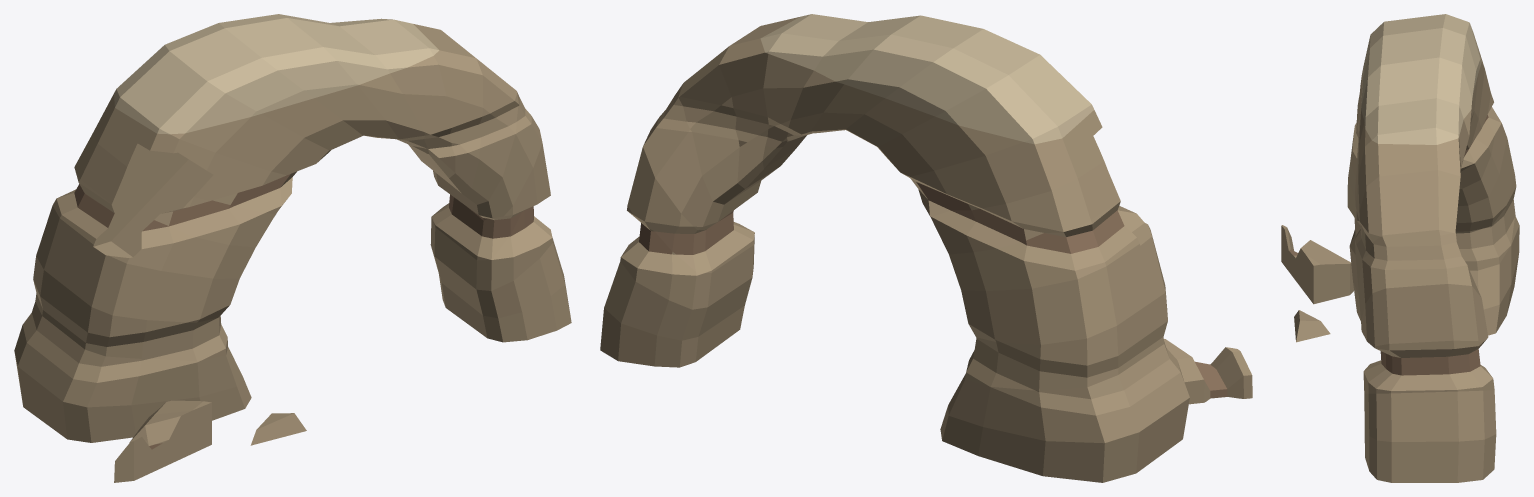
File: natural-arch-v2.glb
3 renders of one model, left to right at view 1: azimuth 30°, elevation 25°; view 2: azimuth 150°, elevation 25°; view 3: azimuth 270°, elevation 25°, orthographic. The views are drawn at different scales.
Visible parts, largest first — view 1: Arch_resistant_crown_and_eroded_supports, Fallen_shoulder_flake_original_break_geometry, Small_chip_below_same_shoulder_failure; view 2: Arch_resistant_crown_and_eroded_supports, Fallen_shoulder_flake_original_break_geometry; view 3: Arch_resistant_crown_and_eroded_supports, Fallen_shoulder_flake_original_break_geometry, Small_chip_below_same_shoulder_failure.
Part boxes in pixels (x1,y1,x2,y2): Arch_resistant_crown_and_eroded_supports: (14,14,571,442); Fallen_shoulder_flake_original_break_geometry: (114,400,211,482); Small_chip_below_same_shoulder_failure: (250,413,306,445); Arch_resistant_crown_and_eroded_supports: (600,14,1189,482); Fallen_shoulder_flake_original_break_geometry: (1164,339,1252,404); Arch_resistant_crown_and_eroded_supports: (1347,14,1519,482); Fallen_shoulder_flake_original_break_geometry: (1281,225,1353,304); Small_chip_below_same_shoulder_failure: (1294,310,1330,342).
Bounding box in the file's own units: 5.45 × 3.49 × 2.4.
